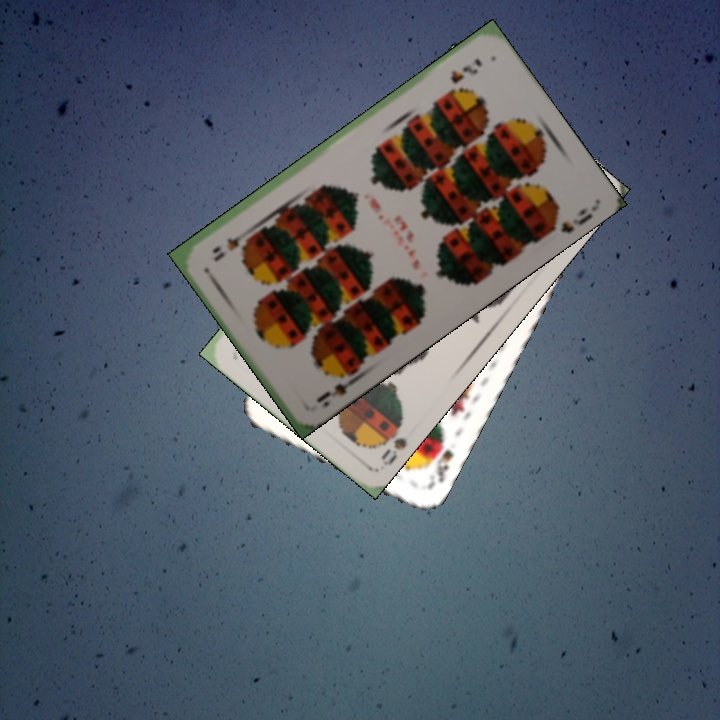S9: (312, 365, 362, 406), (446, 54, 485, 87)
SK: (423, 432, 456, 492)
SO: (370, 412, 411, 469)
